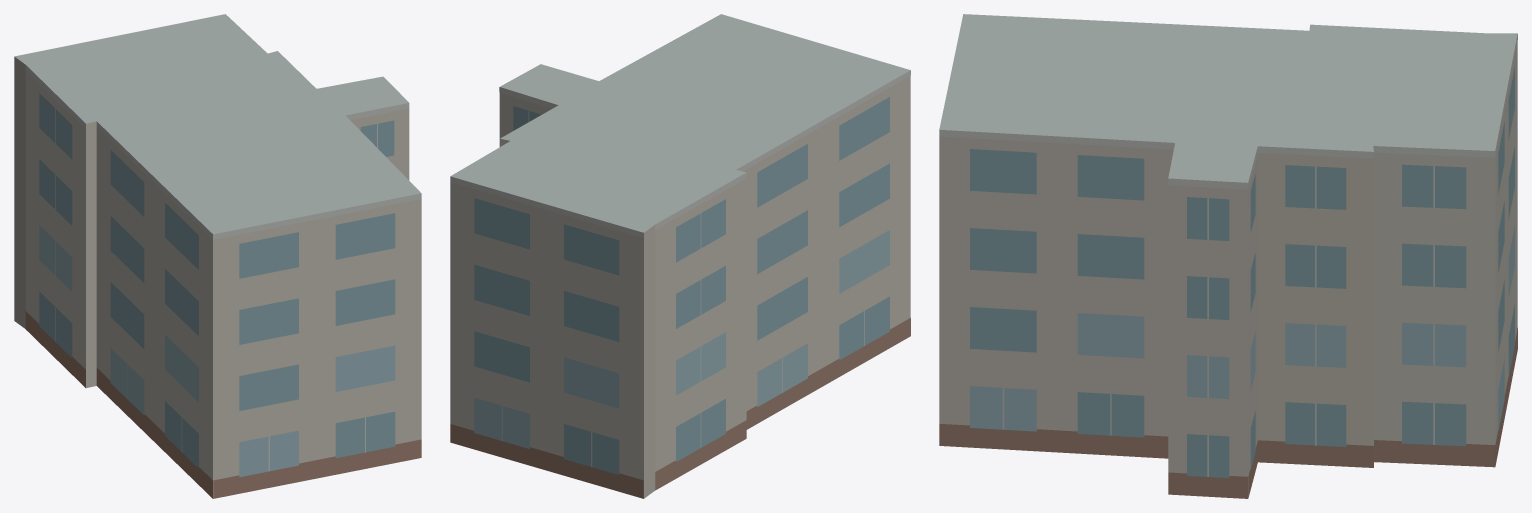
The model's file is survey-upis-33007632.glb.
The picture shows the model from 3 angles, left to right: view 1: azimuth 30°, elevation 25°; view 2: azimuth 150°, elevation 25°; view 3: azimuth 270°, elevation 25°; orthographic projection. The views are drawn at different scales.
Visible parts, largest first — view 1: survey-upis-33007632.tmp; view 2: survey-upis-33007632.tmp; view 3: survey-upis-33007632.tmp.
Part boxes in pixels (x1,y1,x2,y2): survey-upis-33007632.tmp: (14, 14, 421, 498); survey-upis-33007632.tmp: (450, 14, 910, 498); survey-upis-33007632.tmp: (939, 14, 1517, 498).
Size of the model in its own units: 13.26 by 11.57 by 19.2.
